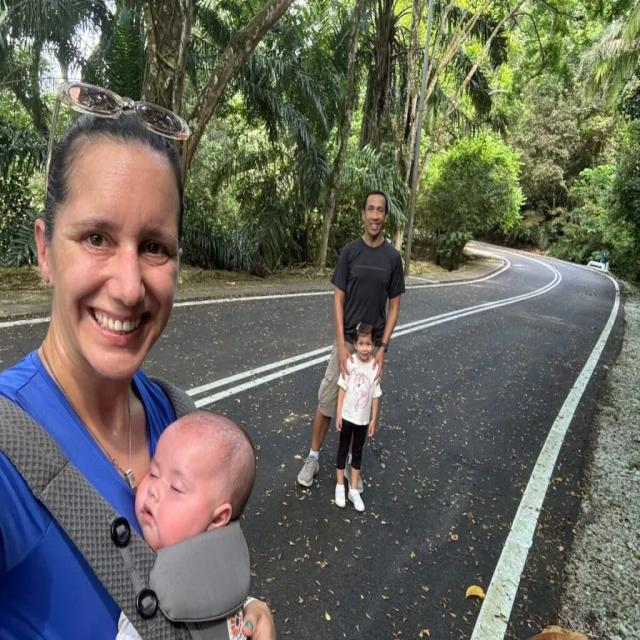Person: (1, 61, 278, 640), (298, 175, 411, 527), (115, 399, 257, 640), (334, 318, 387, 513)
